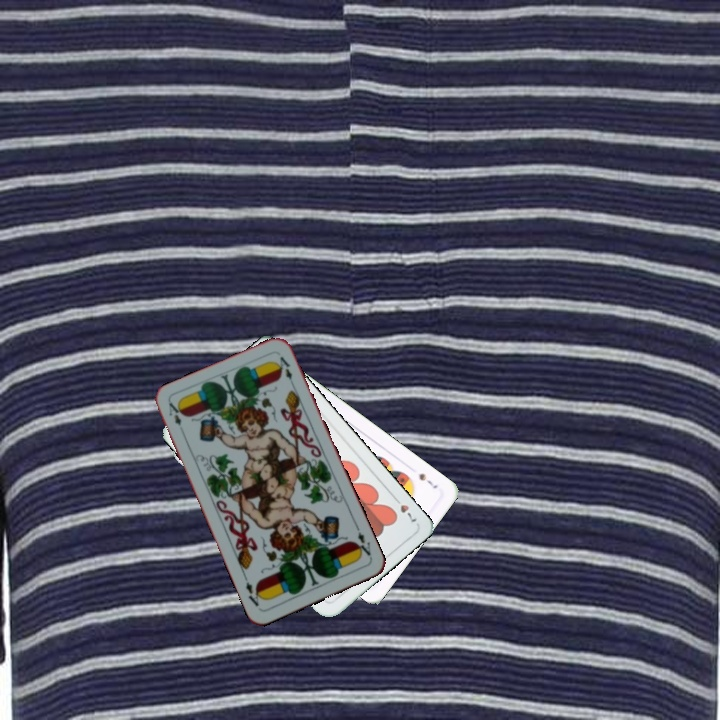EA: (351, 528, 374, 561), (164, 398, 185, 428)
H7: (389, 492, 419, 525)
S7: (415, 469, 440, 491)
